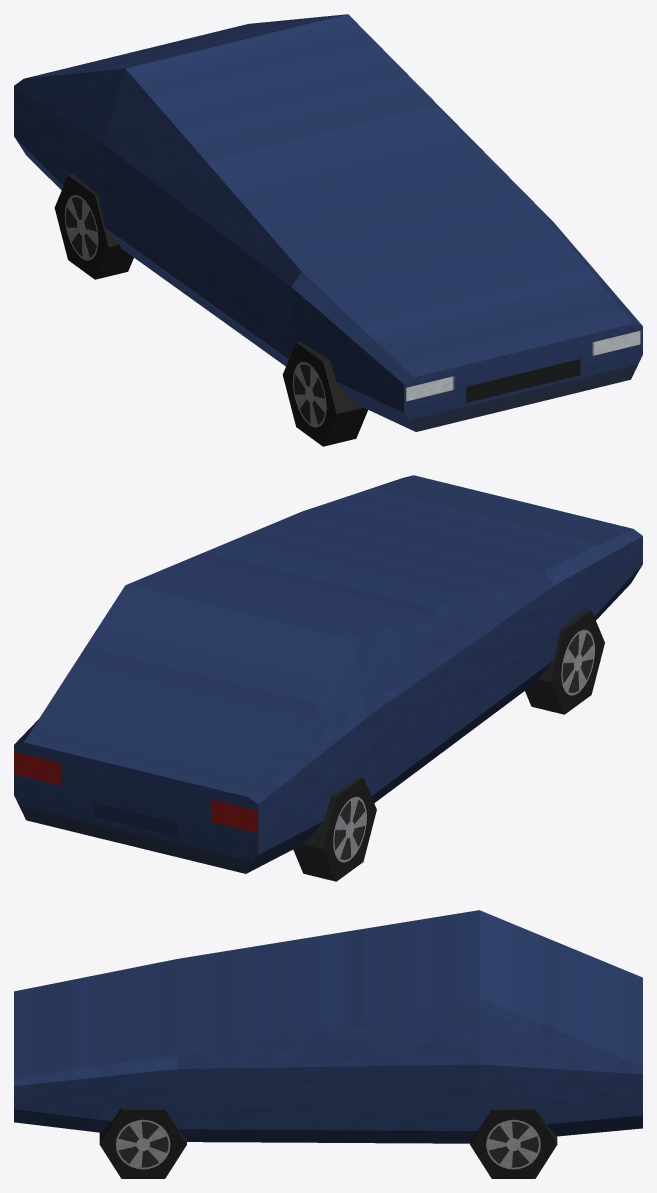
Rendered from SM_Morin_Auto_C_Col_LOD2.fbx.
3 renders of one model, top to bottom at view 1: azimuth 30°, elevation 25°; view 2: azimuth 150°, elevation 25°; view 3: azimuth 270°, elevation 25°, orthographic. The views are drawn at different scales.
Parts seen in each view (by area): view 1: SM_Morin_Auto_C_Col_LOD2; view 2: SM_Morin_Auto_C_Col_LOD2; view 3: SM_Morin_Auto_C_Col_LOD2.
Boxes of the visible parts, x1,y1,x2,y2 form: SM_Morin_Auto_C_Col_LOD2: [14, 14, 642, 446]; SM_Morin_Auto_C_Col_LOD2: [14, 475, 642, 881]; SM_Morin_Auto_C_Col_LOD2: [14, 910, 642, 1178].
Bounding box in the file's own units: 178 × 445 × 134.
1 material, 1 textured.
